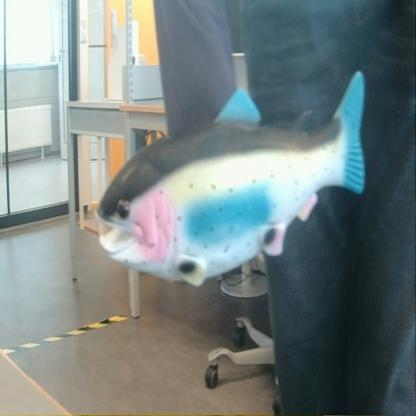rubberfish: (93, 66, 372, 293)
